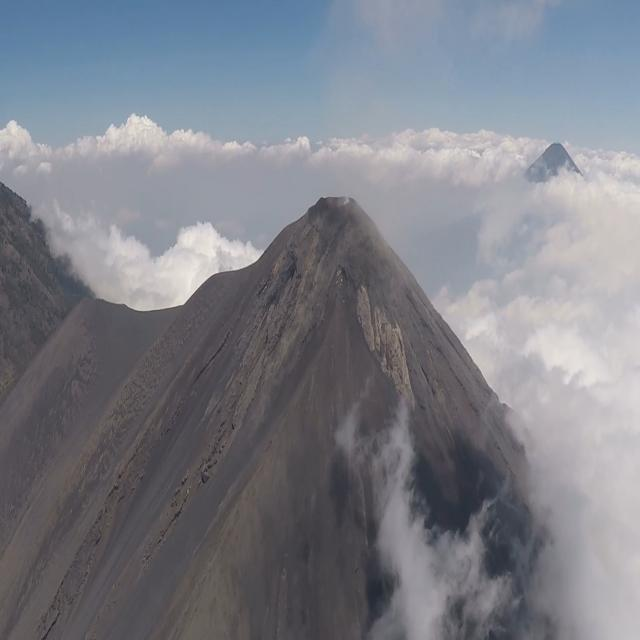Summit: (164, 178, 470, 412)
